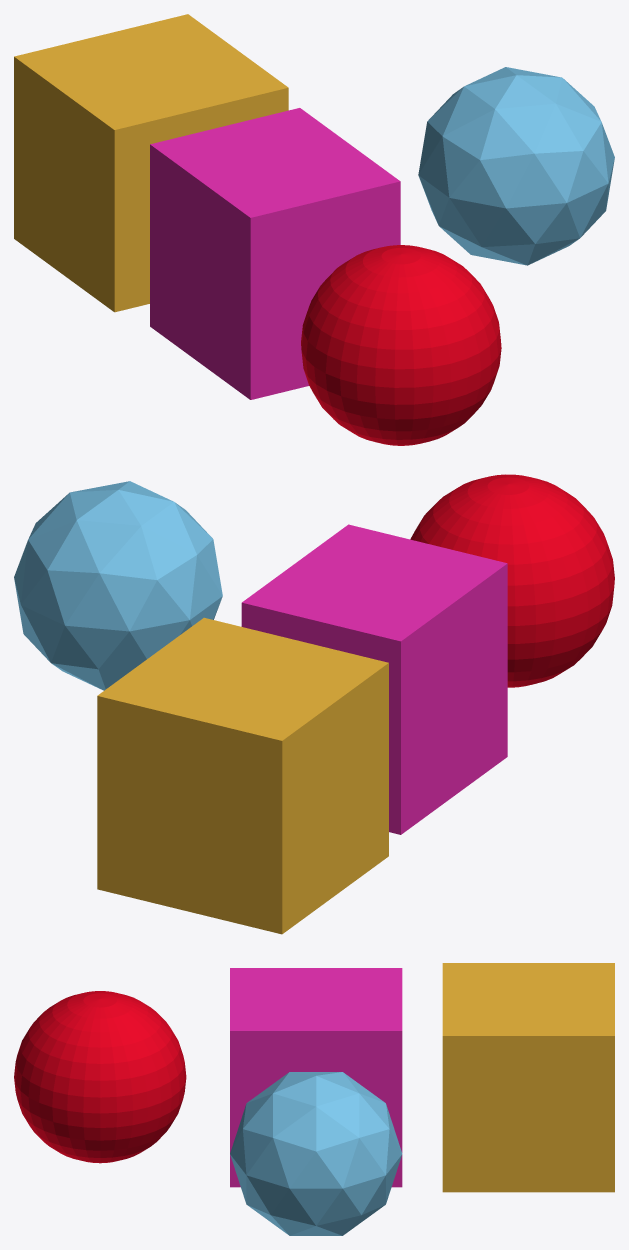
Rendered from HPU.glb.
3 renders of one model, top to bottom at view 1: azimuth 30°, elevation 25°; view 2: azimuth 150°, elevation 25°; view 3: azimuth 270°, elevation 25°, orthographic. The views are drawn at different scales.
Parts seen in each view (by area): view 1: middlePinkCube, yellow, redBall, blueBall; view 2: yellow, middlePinkCube, blueBall, redBall; view 3: yellow, redBall, blueBall, middlePinkCube.
Part boxes in pixels (x1=…): middlePinkCube: x1=150, y1=108, x2=400, y2=399; yellow: x1=14, y1=14, x2=288, y2=312; redBall: x1=301, y1=245, x2=501, y2=445; blueBall: x1=418, y1=67, x2=614, y2=265; yellow: x1=97, y1=617, x2=388, y2=934; middlePinkCube: x1=241, y1=524, x2=507, y2=834; blueBall: x1=14, y1=481, x2=222, y2=690; redBall: x1=410, y1=474, x2=614, y2=687; yellow: x1=442, y1=963, x2=614, y2=1192; redBall: x1=14, y1=991, x2=186, y2=1163; blueBall: x1=230, y1=1072, x2=402, y2=1235; middlePinkCube: x1=230, y1=968, x2=402, y2=1187.
Bounding box in the file's own units: 4.72 × 2.32 × 6.97.
